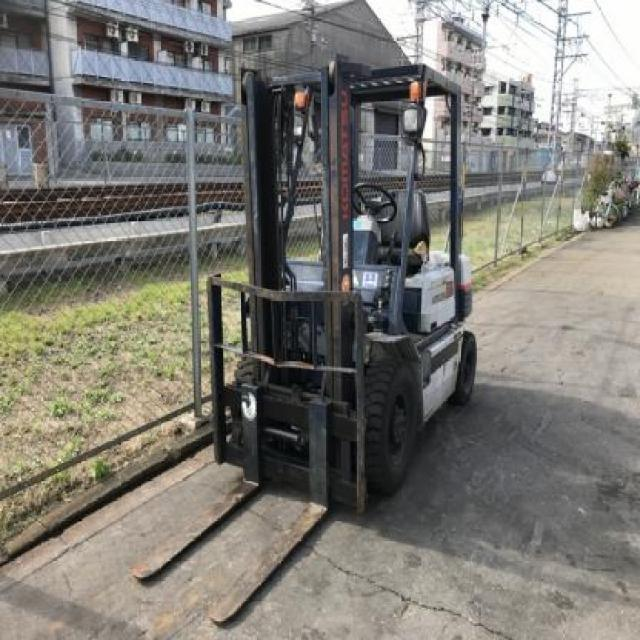forklift: (128, 54, 481, 622)
